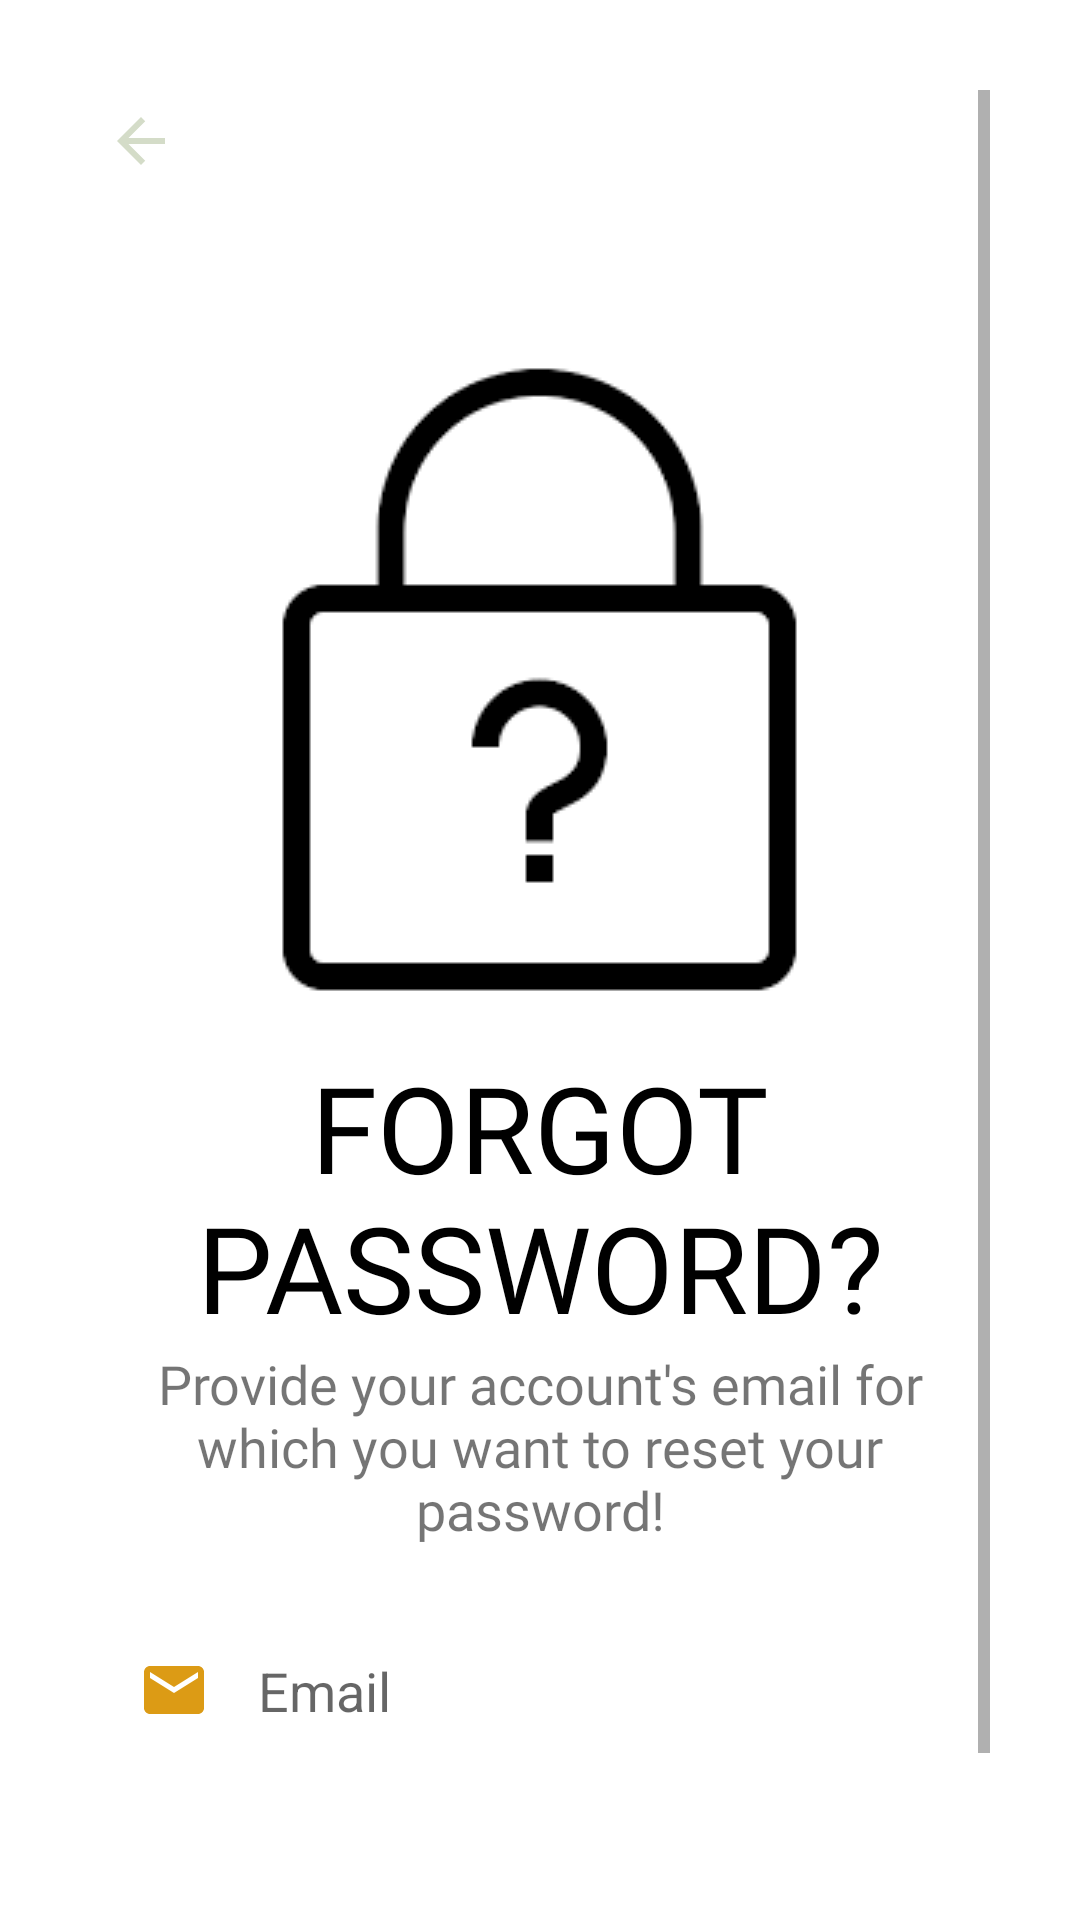

Where icons sit on this 1080×1920 app screen, as {"x1": x1, "y1": y1, "x2": x2, "y2": y2}:
arrow back: {"x1": 117, "y1": 117, "x2": 165, "y2": 165}
